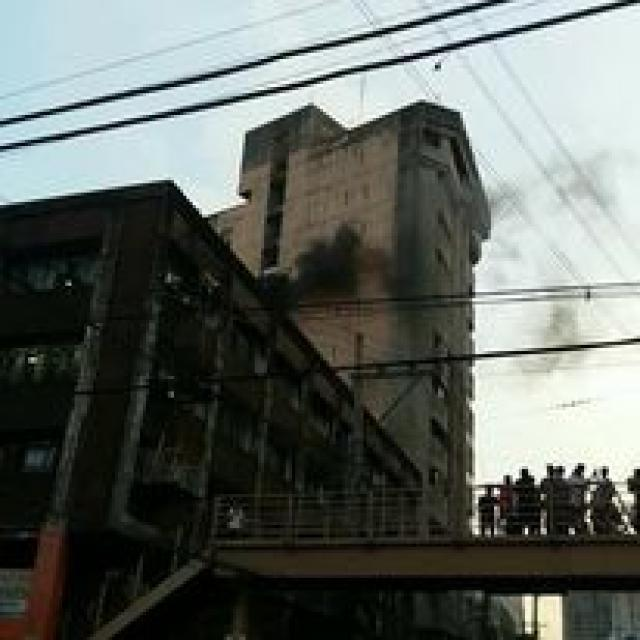Smoke: (260, 223, 366, 314)
